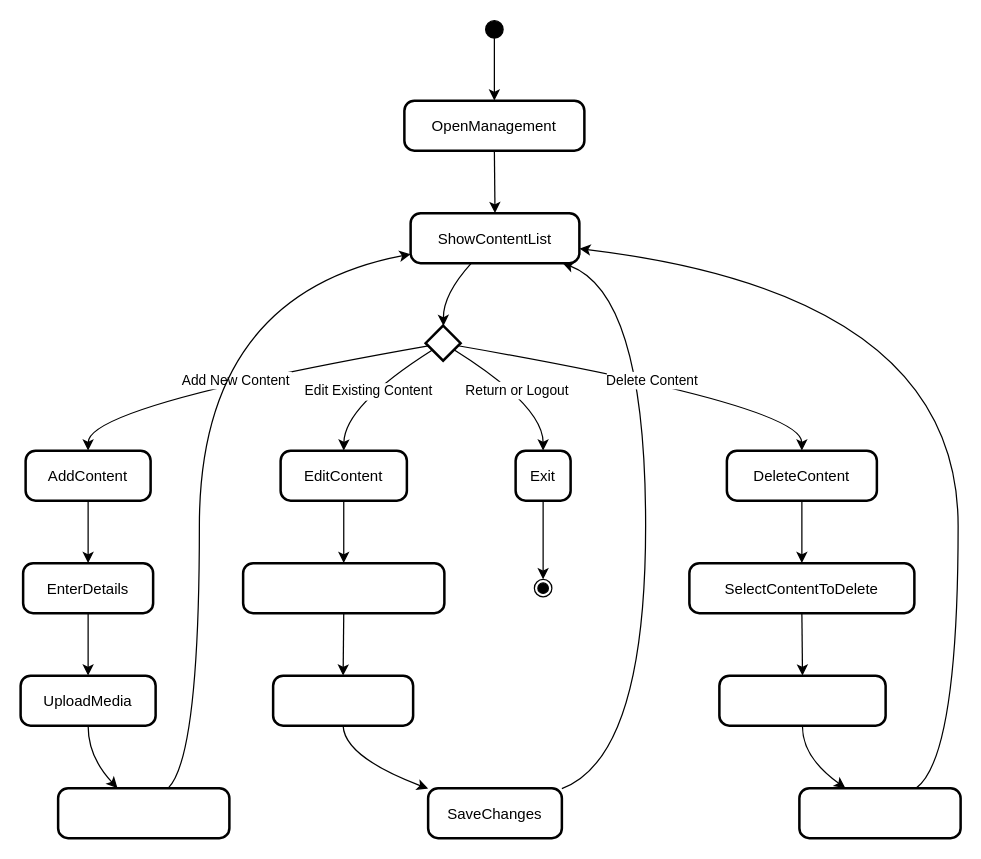
This 981x859 diagram has some shape labels left out. Here are the shapes that lost their labels. From the top down, the box of each, then its label:
(241, 561, 445, 614): SelectContentToEdit
(271, 674, 414, 726): ModifyDetails
(718, 674, 886, 726): ConfirmDeletion
(56, 786, 230, 839): SaveNewContent
(798, 786, 961, 839): RemoveContent
